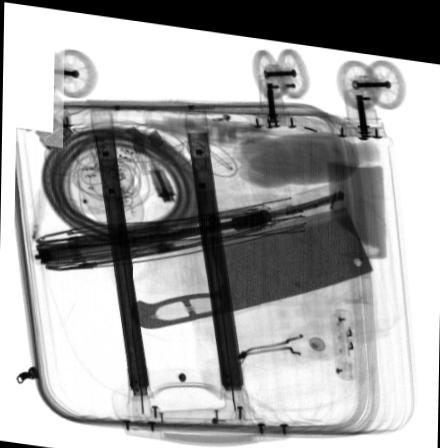Knife: (131, 195, 374, 324)
